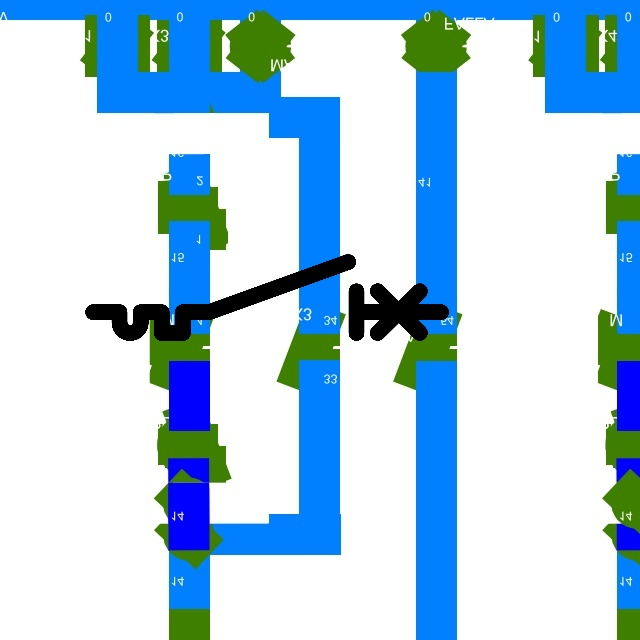interruptor_termomagnetico: (84, 253, 450, 342)
